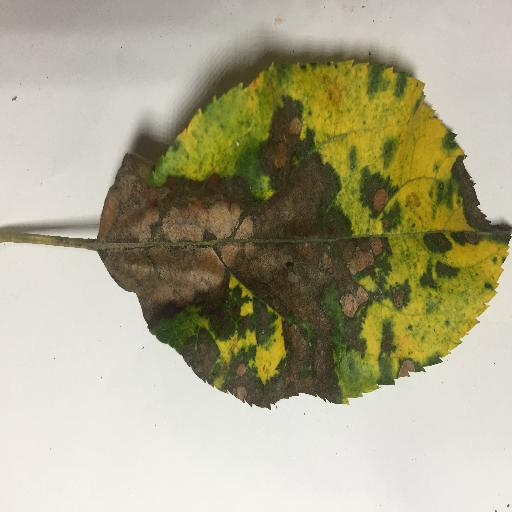Brown_Spot: (93, 100, 346, 400), (340, 237, 407, 315), (362, 181, 396, 218), (392, 353, 416, 377)
